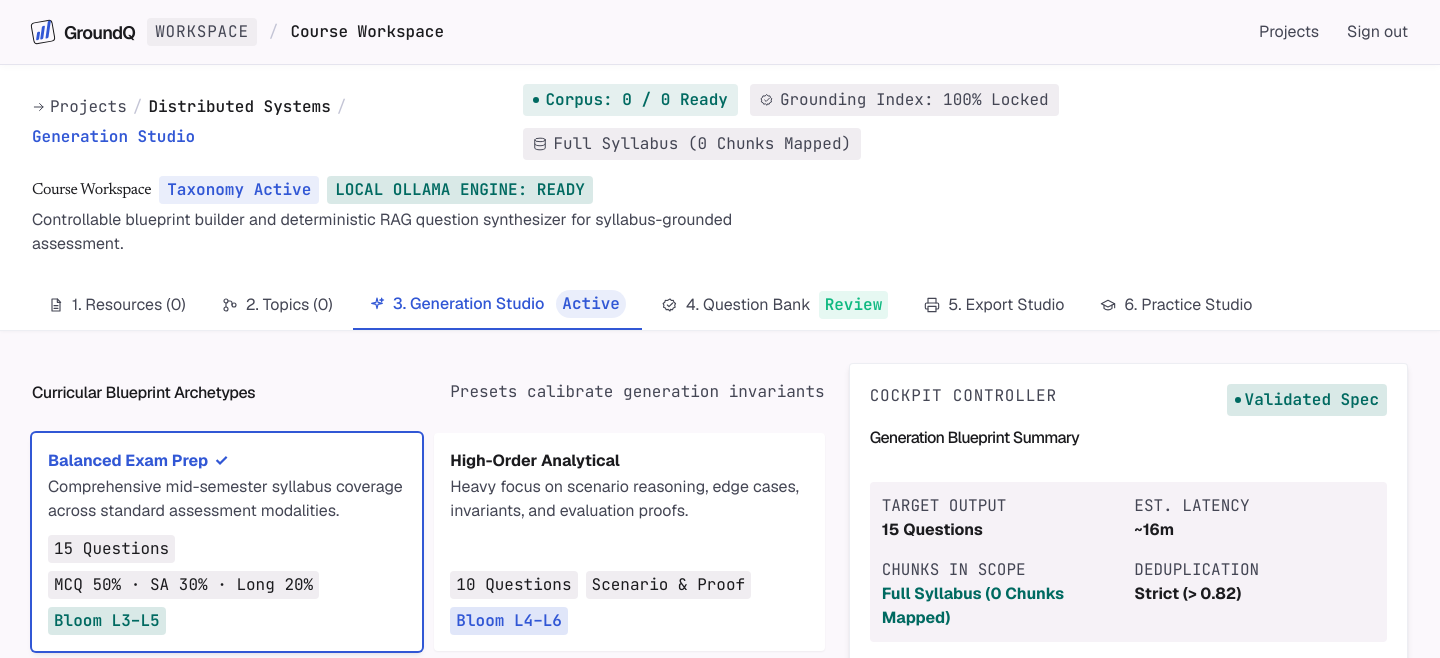
ProjectGenerationPage › switches active archetype when clicking preset cards
The width and height of the screenshot is (1440, 658).
Click the button "High-Order Analytical" at point(535, 460), box [434, 433, 825, 651]
(page scrolled)
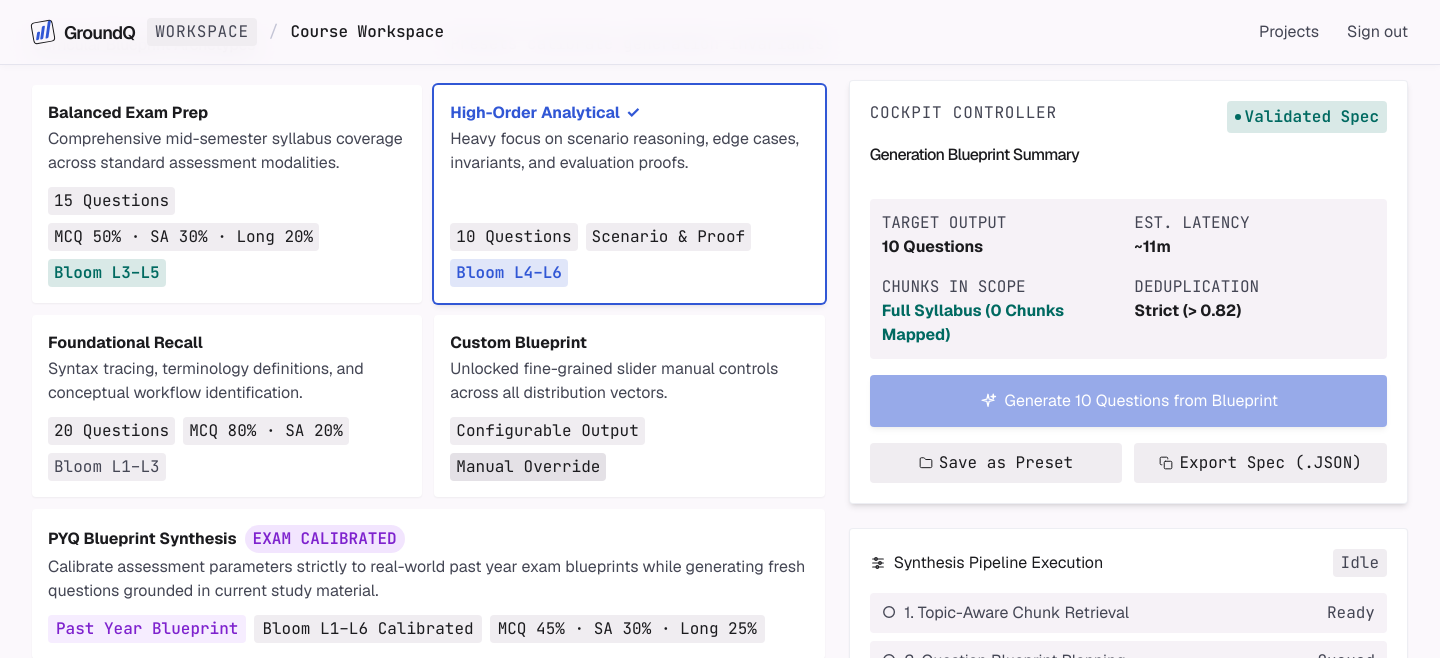
Expected: the button "Generate 10 Questions from Blueprint" is shown, [870, 375, 1387, 427]
Click the button "Foundational Recall" at point(125, 342), box [32, 315, 422, 497]
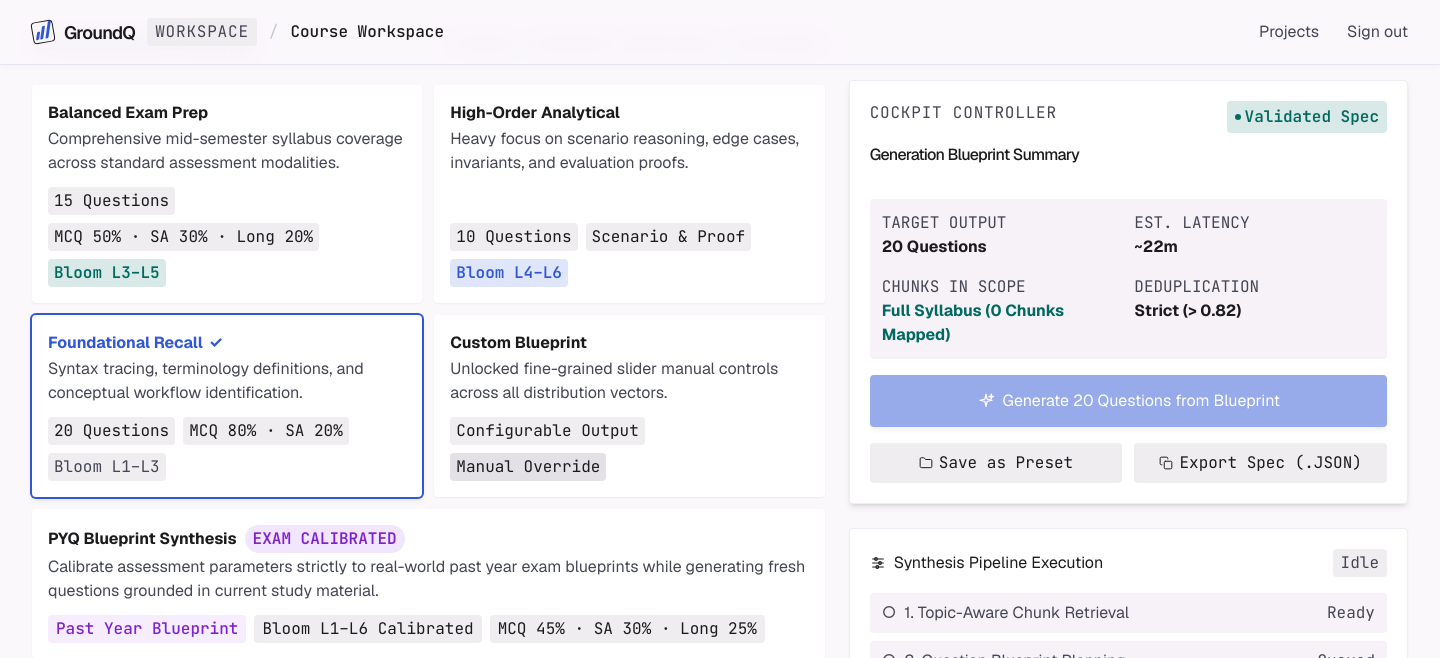
Expected: the button "Generate 20 Questions from Blueprint" is shown, [870, 375, 1387, 427]
